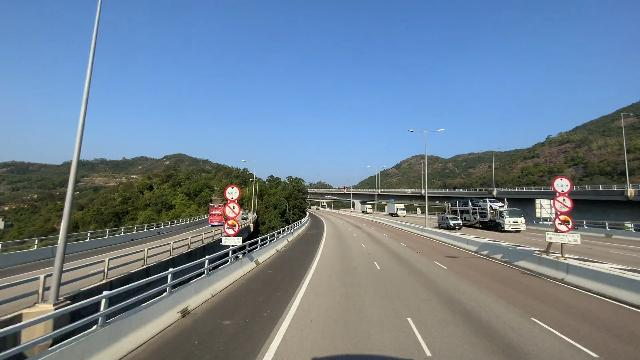truck: (448, 198, 525, 230), (386, 201, 405, 216), (360, 203, 372, 215)
van: (437, 212, 464, 232)
